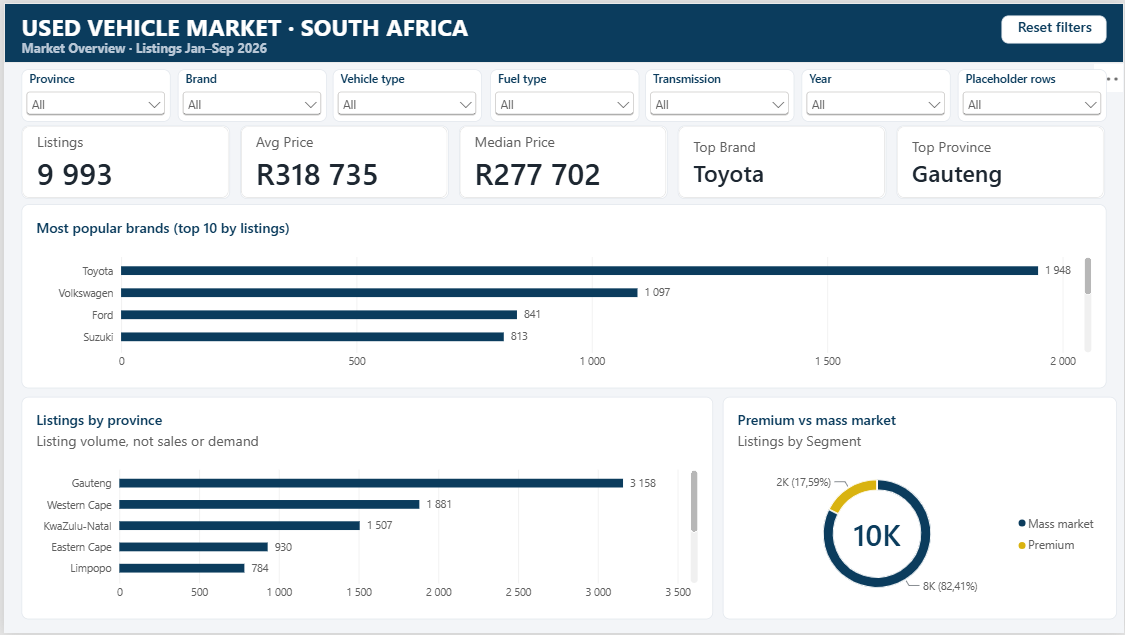

The dashboard page shown, as its layout file describes it:
{"tool":"powerbi","page":{"name":"Market Overview","canvas":[1280,720],"ordinal":0},"visuals":[{"type":"shape","box":[0,0,1280,68],"z":0},{"type":"textbox","box":[20,8,550,36],"z":1000},{"type":"textbox","box":[20.5,41,548.9,24.1],"z":2000},{"type":"slicer","fields":{"Values":["Fact_Vehicles.Province"]},"box":[20.5,76,170.1,60.3],"z":3000},{"type":"slicer","fields":{"Values":["Fact_Vehicles.Brand"]},"box":[198,76,170,60],"z":4000},{"type":"slicer","fields":{"Values":["Fact_Vehicles.Vehicle_Type"]},"box":[376,76,170,60],"z":5000},{"type":"slicer","fields":{"Values":["Fact_Vehicles.Fuel_Type"]},"box":[555,76,170,60],"z":6000},{"type":"slicer","fields":{"Values":["Fact_Vehicles.Transmission"]},"box":[733,76,170,60],"z":7000},{"type":"slicer","fields":{"Values":["Fact_Vehicles.Year"]},"box":[911,76,170,60],"z":8000},{"type":"slicer","fields":{"Values":["Fact_Vehicles.Placeholder_Flag"]},"box":[1090,76,170,60],"z":9000},{"type":"cardVisual","fields":{"Data":["_Measures (2).Listings"]},"box":[20,140,238,84],"z":10000},{"type":"cardVisual","fields":{"Data":["_Measures (2).Avg Price"]},"box":[270,140,238,84],"z":11000},{"type":"cardVisual","fields":{"Data":["_Measures (2).Median Price"]},"box":[520,140,238,84],"z":12000},{"type":"cardVisual","fields":{"Data":["_Measures (2).Top Brand"]},"box":[770,140,238,84],"z":13000},{"type":"cardVisual","fields":{"Data":["_Measures (2).Top Province"]},"box":[1020,140,238,84],"z":14000},{"type":"clusteredBarChart","title":"Most popular brands (top 10 by listings)","fields":{"Category":["Fact_Vehicles.Brand"],"Y":["_Measures (2).Listings"]},"box":[20,230,1240,210],"z":15000},{"type":"clusteredBarChart","title":"Listings by province","fields":{"Category":["Fact_Vehicles.Province"],"Y":["_Measures (2).Listings"]},"box":[20,450,790,254],"z":16000},{"type":"donutChart","title":"Premium vs mass market","fields":{"Category":["Dim_Brand.Segment"],"Y":["_Measures (2).Listings"]},"box":[822,450,450,254],"z":17000},{"type":"actionButton","title":"Reset filters","box":[1140,14,120,32],"z":18000}]}

Visuals, with their boxes in screenshot pixels (x1, y1, x2, y2), scaled from the page's 1280x720 canvas onto the 1125x635 screenshot:
shape: <box>0,0,1124,60</box>
textbox: <box>18,7,501,39</box>
textbox: <box>18,36,500,57</box>
slicer - Fact_Vehicles.Province: <box>18,67,168,120</box>
slicer - Fact_Vehicles.Brand: <box>174,67,323,120</box>
slicer - Fact_Vehicles.Vehicle_Type: <box>330,67,480,120</box>
slicer - Fact_Vehicles.Fuel_Type: <box>488,67,637,120</box>
slicer - Fact_Vehicles.Transmission: <box>644,67,794,120</box>
slicer - Fact_Vehicles.Year: <box>801,67,950,120</box>
slicer - Fact_Vehicles.Placeholder_Flag: <box>958,67,1107,120</box>
cardVisual - _Measures (2).Listings: <box>18,123,227,198</box>
cardVisual - _Measures (2).Avg Price: <box>237,123,446,198</box>
cardVisual - _Measures (2).Median Price: <box>457,123,666,198</box>
cardVisual - _Measures (2).Top Brand: <box>677,123,886,198</box>
cardVisual - _Measures (2).Top Province: <box>896,123,1106,198</box>
"Most popular brands (top 10 by listings)" clusteredBarChart: <box>18,203,1107,388</box>
"Listings by province" clusteredBarChart: <box>18,397,712,621</box>
"Premium vs mass market" donutChart: <box>722,397,1118,621</box>
"Reset filters" actionButton: <box>1002,12,1107,41</box>
